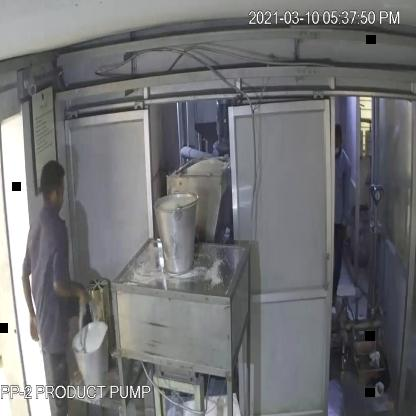no_glove: (12, 260, 48, 341), (50, 269, 89, 321)
